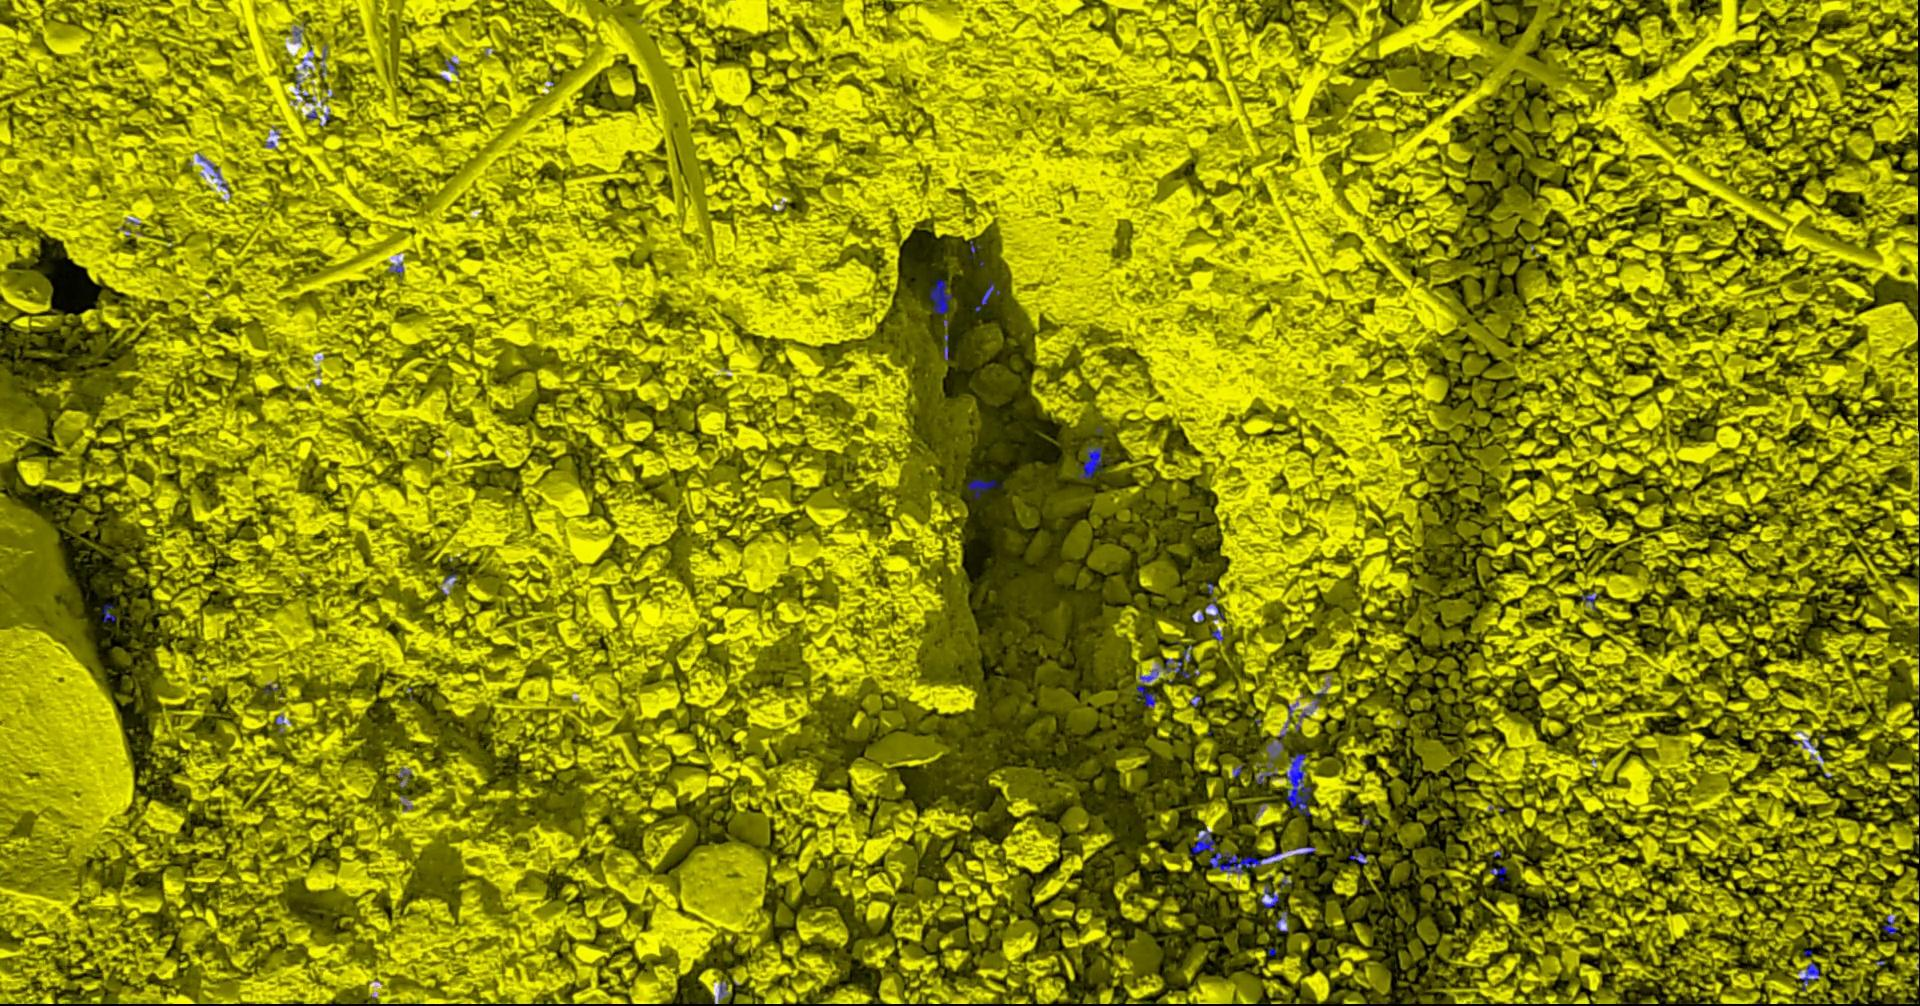ant: (1189, 827, 1284, 873), (1285, 753, 1310, 815), (1078, 441, 1102, 478), (928, 278, 951, 314), (974, 279, 999, 311), (1135, 669, 1157, 706), (968, 478, 1001, 498), (206, 161, 227, 189), (1162, 658, 1190, 678), (1801, 962, 1818, 991), (1260, 884, 1277, 908), (1205, 598, 1224, 619), (1580, 591, 1597, 610), (1883, 915, 1898, 934), (1488, 866, 1506, 882), (1349, 848, 1368, 862), (102, 603, 116, 621), (443, 58, 458, 74), (943, 333, 949, 359)
